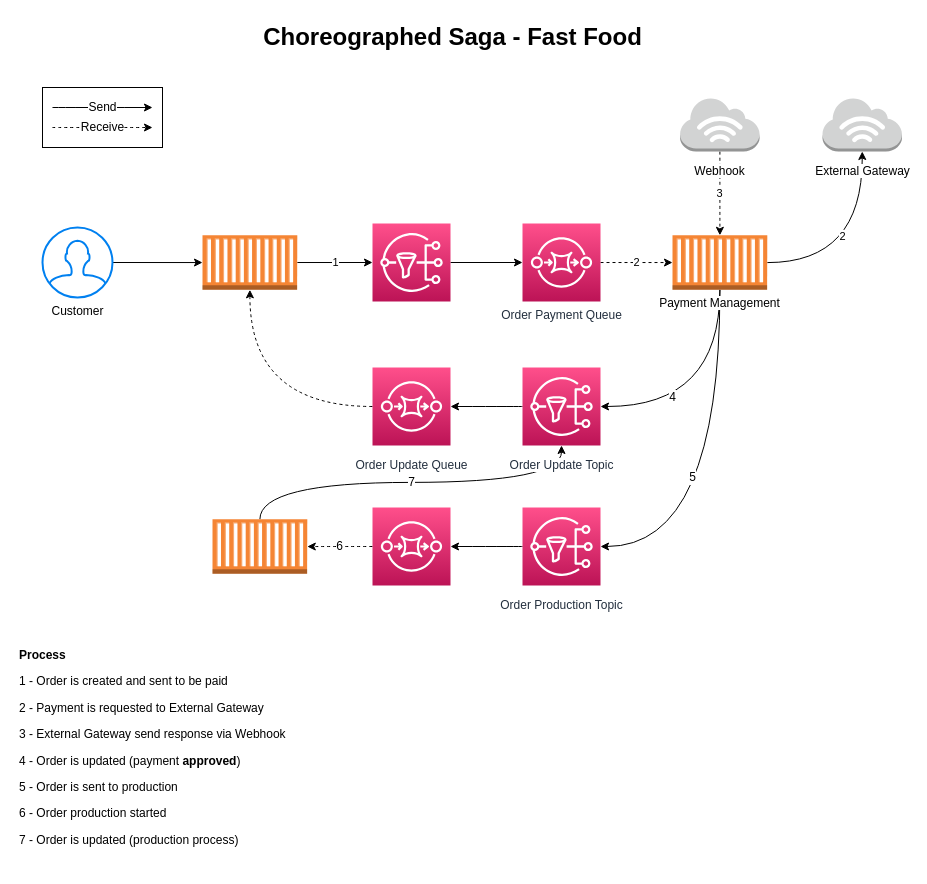
Some shapes in this 927 by 884 pixel diagram are drawn without their labels. The box of each missing label's shape, as (x1, y1, x2, y2) in pixels:
Order Management: (202, 234, 297, 290)
Order Payment Topic: (372, 222, 450, 302)
Order Production: (212, 518, 307, 574)
Order Production Queue: (372, 506, 450, 586)
